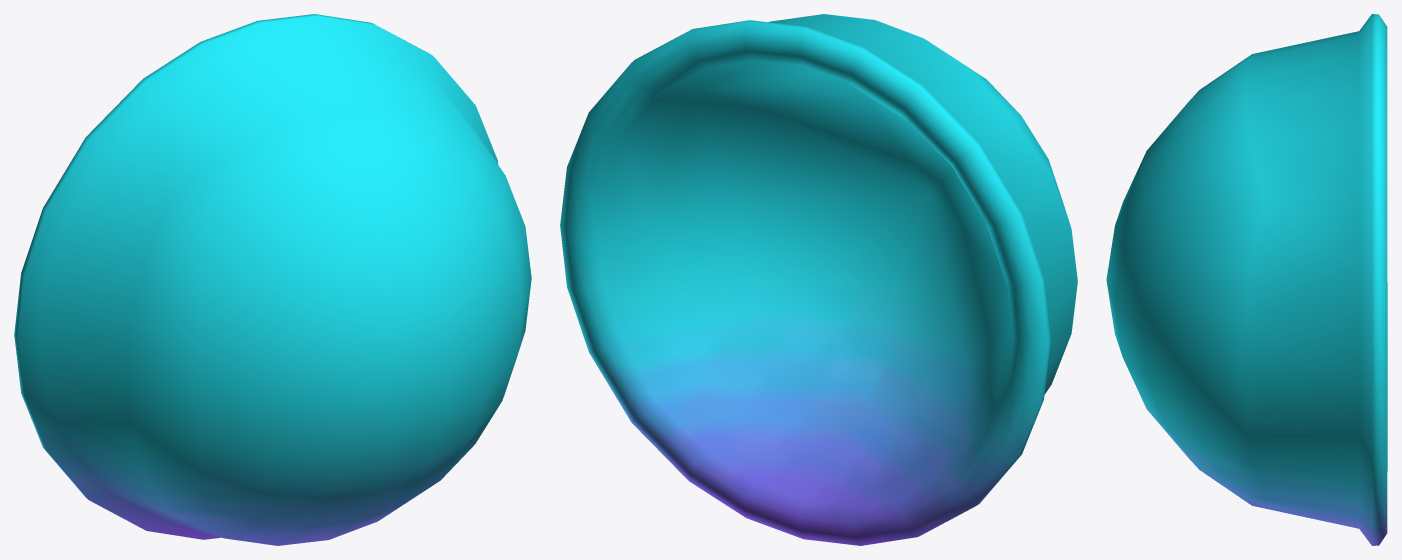
The model's file is Amongus02_Cut_009_0.FBX.
3 views of the same model, side by side, from view 1: azimuth 30°, elevation 25°; view 2: azimuth 150°, elevation 25°; view 3: azimuth 270°, elevation 25° (orthographic). The views are drawn at different scales.
Visible parts, largest first — view 1: Amongus02_Cut_009_0; view 2: Amongus02_Cut_009_0; view 3: Amongus02_Cut_009_0.
Boxes of the visible parts, x1,y1,x2,y2 form: Amongus02_Cut_009_0: [14, 14, 531, 545]; Amongus02_Cut_009_0: [560, 14, 1077, 545]; Amongus02_Cut_009_0: [1106, 14, 1387, 545].
Size of the model in its own units: 0.7584 by 0.4 by 0.7584.
